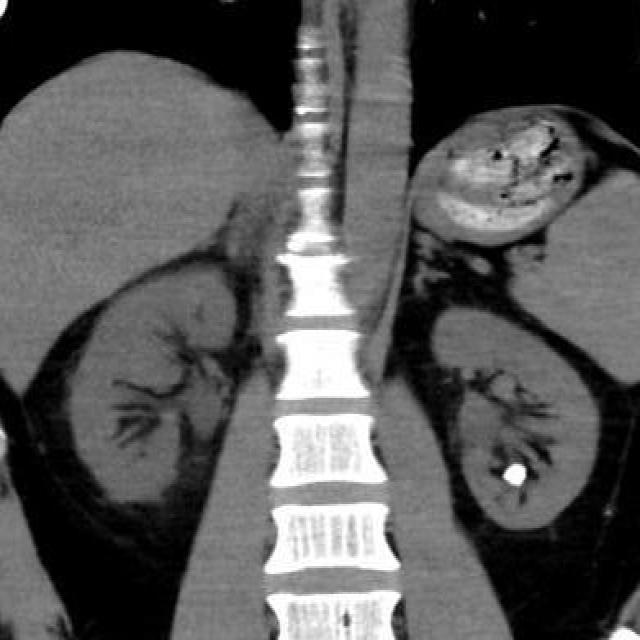Tas_Var: (499, 462, 531, 490)
